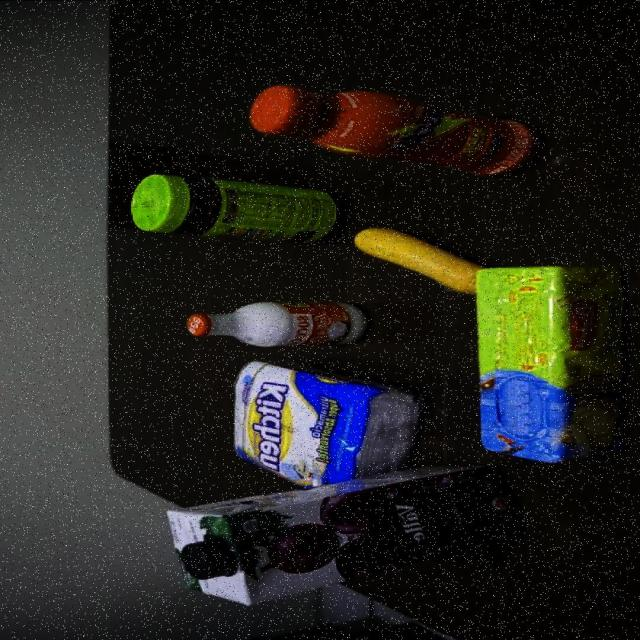Carrot: (351, 224, 477, 296)
ChocolateMilk: (244, 82, 548, 179)
ChocolatePowder: (129, 172, 350, 248)
CoconutMilk: (186, 298, 372, 348)
Cracker: (474, 265, 629, 464)
Napkin: (232, 357, 422, 492)
